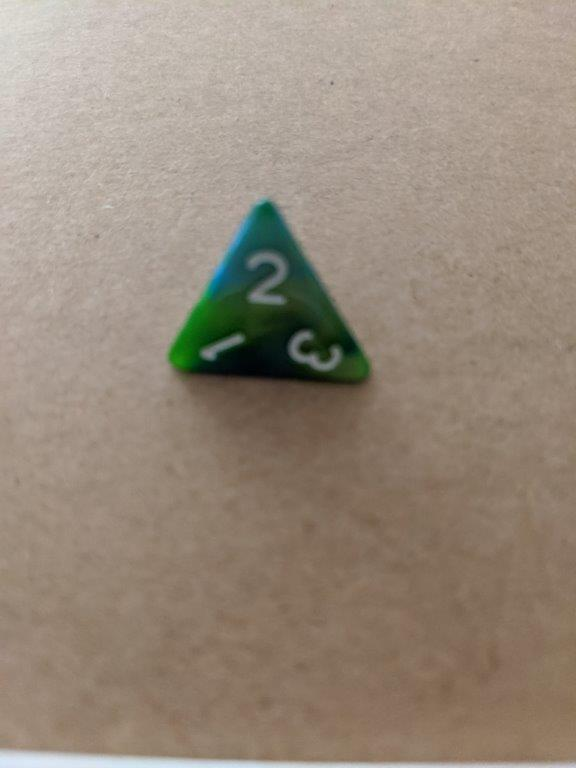d4-2: (168, 191, 378, 396)
